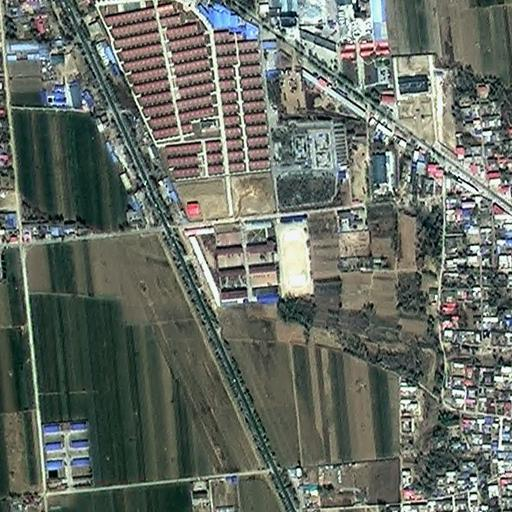school: (213, 216, 313, 304)
